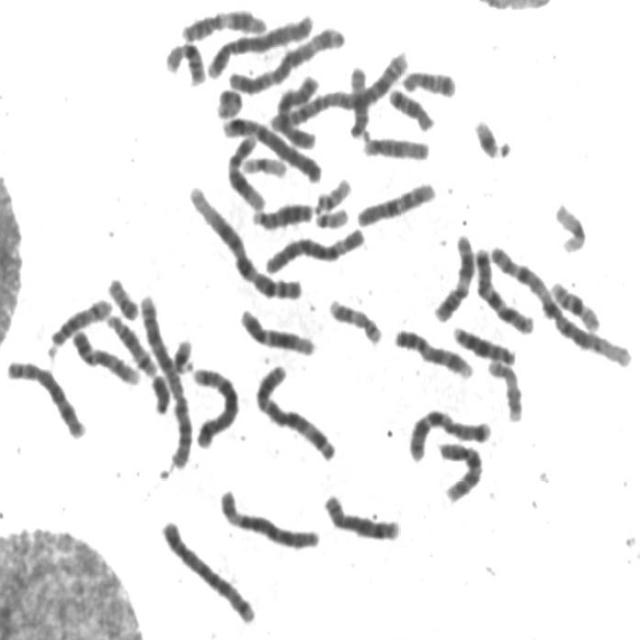A1: (476, 238, 636, 369), (182, 177, 306, 303)
A2: (269, 44, 412, 131), (133, 288, 195, 472)
A3: (248, 356, 339, 463), (220, 18, 348, 94)
B4: (200, 5, 316, 80), (218, 109, 324, 184)
B5: (156, 512, 258, 626), (187, 359, 242, 450)
C10: (351, 173, 440, 230), (433, 434, 486, 506)
C11: (428, 226, 476, 323), (175, 2, 268, 43)
C12: (234, 301, 318, 358), (222, 126, 268, 212)
C6: (212, 481, 323, 552), (258, 220, 369, 276)
C7: (470, 238, 538, 336), (402, 402, 494, 463)
C8: (1, 351, 88, 442), (318, 486, 404, 544)
C9: (389, 321, 475, 381), (66, 322, 143, 386)
D13: (448, 318, 518, 366), (248, 194, 316, 232)
D14: (41, 290, 114, 360), (101, 306, 160, 377)
D15: (357, 128, 432, 162), (343, 58, 371, 140)
E16: (546, 271, 604, 333), (159, 35, 208, 87)
E17: (323, 291, 385, 347), (484, 354, 525, 423)
E18: (383, 80, 437, 133), (397, 62, 459, 98)
F19: (549, 195, 589, 255), (237, 149, 290, 179)
F20: (102, 270, 141, 322), (212, 86, 246, 121)
G21: (468, 110, 514, 161), (166, 330, 196, 375)
G22: (311, 170, 353, 215), (310, 200, 351, 230)
X: (269, 68, 322, 150)
Y: (145, 367, 172, 416)
